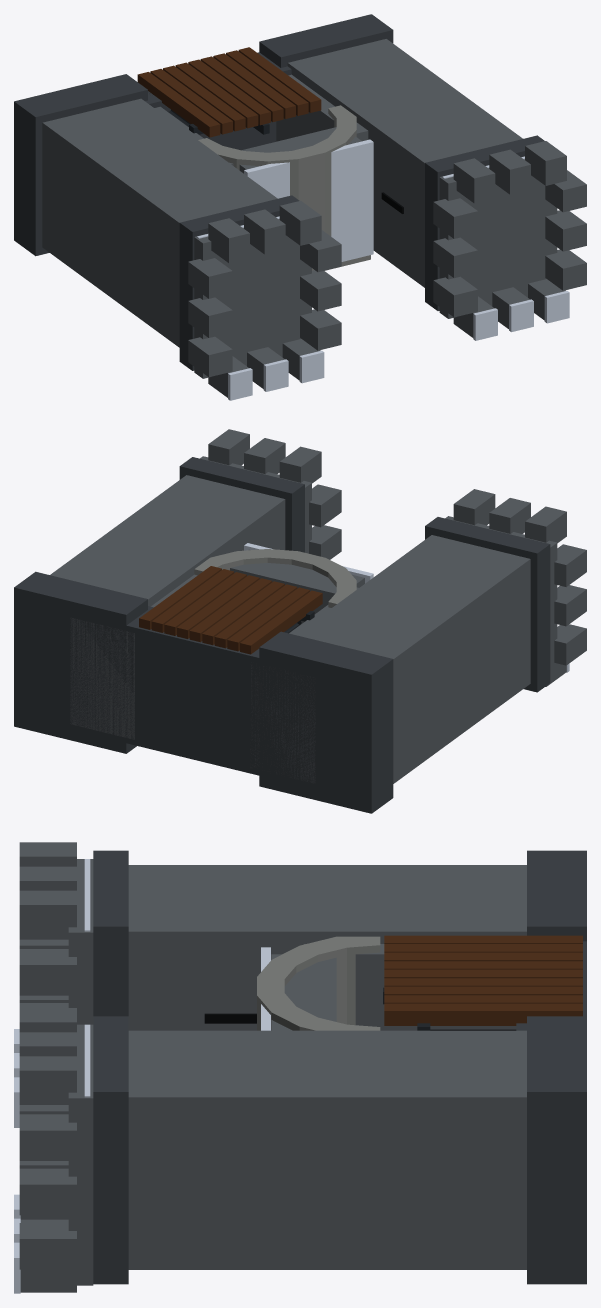
Rendered from Winterfell_Gatehouse.obj.
3 renders of one model, top to bottom at view 1: azimuth 30°, elevation 25°; view 2: azimuth 150°, elevation 25°; view 3: azimuth 270°, elevation 25°, orthographic. The views are drawn at different scales.
Visible parts, largest first — view 1: Winterfell_Gatehouse_Exterior; view 2: Winterfell_Gatehouse_Exterior; view 3: Winterfell_Gatehouse_Exterior.
Boxes of the visible parts, left/top/right/bottom form: Winterfell_Gatehouse_Exterior: left=14, top=14, right=586, bottom=400; Winterfell_Gatehouse_Exterior: left=14, top=429, right=586, bottom=813; Winterfell_Gatehouse_Exterior: left=14, top=842, right=586, bottom=1293.
Bounding box in the file's own units: 1110 × 451 × 1053.
